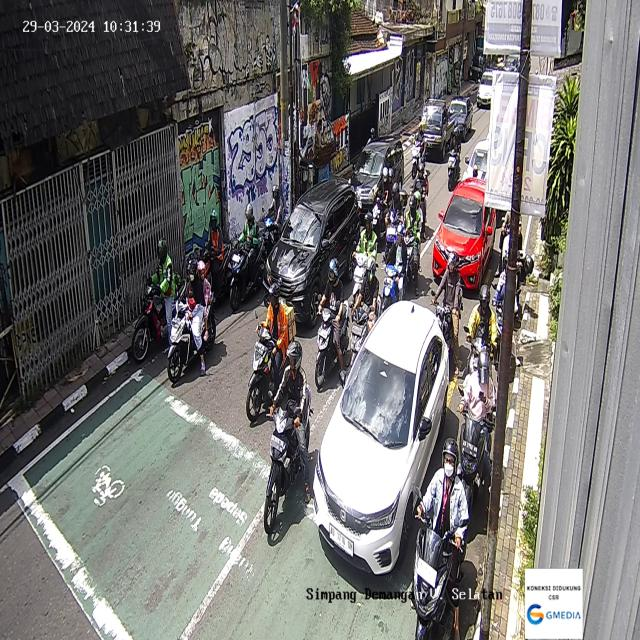car: (312, 299, 450, 577), (264, 177, 360, 327), (432, 175, 496, 291), (349, 136, 404, 224), (448, 96, 473, 142)
motorcycle: (409, 436, 466, 639), (263, 340, 313, 534), (245, 283, 297, 422), (130, 236, 186, 363), (166, 259, 218, 386), (456, 351, 494, 519), (314, 255, 349, 390), (229, 202, 267, 312), (350, 255, 382, 368), (462, 283, 497, 385), (430, 251, 464, 351), (200, 210, 232, 308), (352, 212, 378, 306), (402, 192, 423, 298), (260, 183, 287, 259), (370, 167, 396, 243), (382, 223, 405, 304), (385, 181, 407, 262), (409, 162, 427, 240), (447, 125, 463, 192), (411, 121, 427, 179)
truck: (418, 98, 455, 160)
